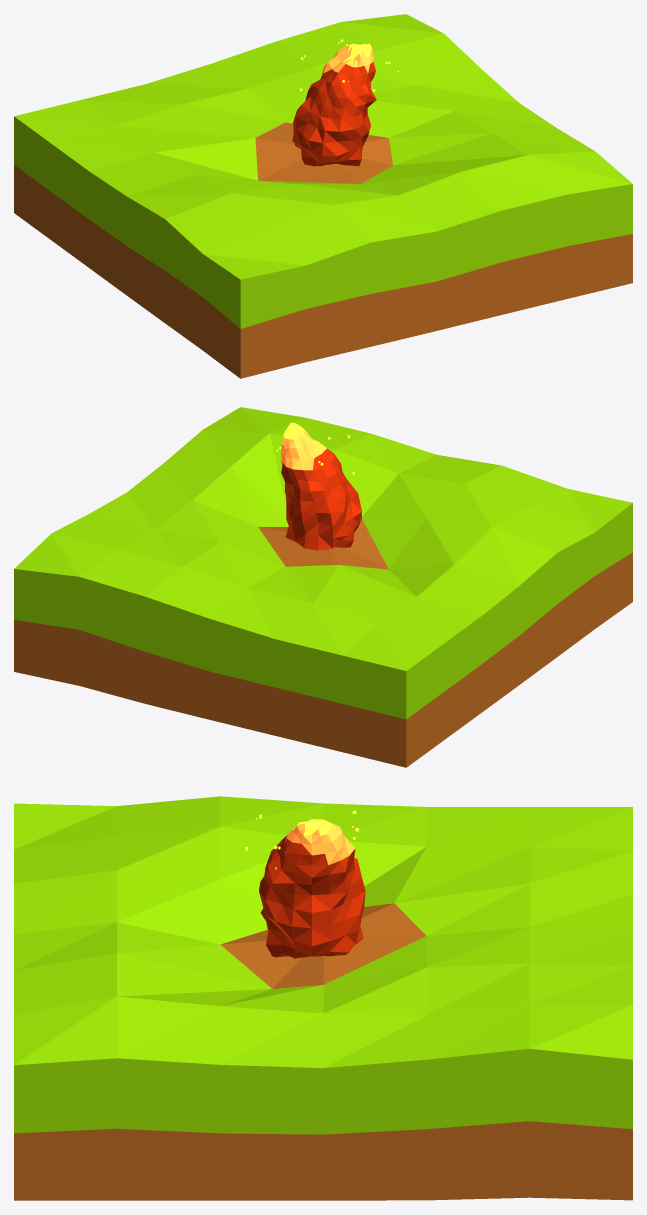
The model's file is FEU_vegetal-feu.fbx.
3 renders of one model, top to bottom at view 1: azimuth 30°, elevation 25°; view 2: azimuth 150°, elevation 25°; view 3: azimuth 270°, elevation 25°, orthographic. The views are drawn at different scales.
Parts seen in each view (by area): view 1: Cube; view 2: Cube; view 3: Cube.
Part boxes in pixels (x1=…): Cube: x1=14, y1=14, x2=632, y2=378; Cube: x1=14, y1=407, x2=632, y2=767; Cube: x1=14, y1=796, x2=632, y2=1200.
Size of the model in its own units: 5 by 2.43 by 5.
